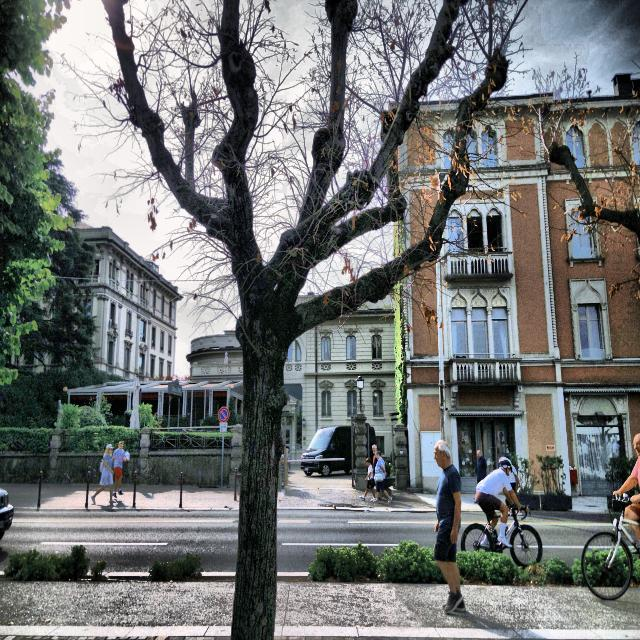carro: (190, 11, 334, 628)
